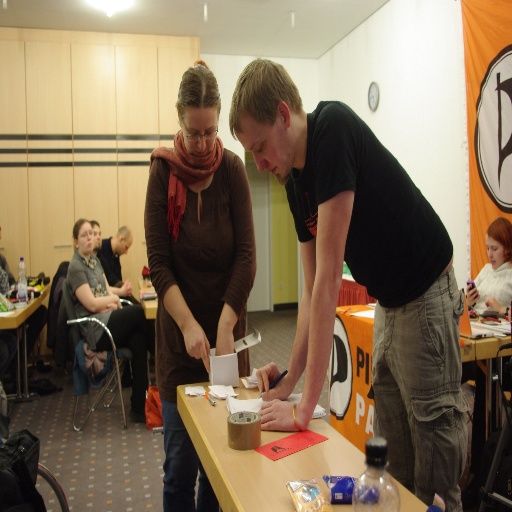hand: (256, 395, 304, 434), (182, 320, 212, 375), (254, 360, 293, 401), (215, 324, 235, 355), (465, 283, 481, 307), (119, 277, 133, 299), (485, 294, 501, 313), (98, 303, 117, 314), (115, 292, 123, 308), (126, 278, 133, 296)
